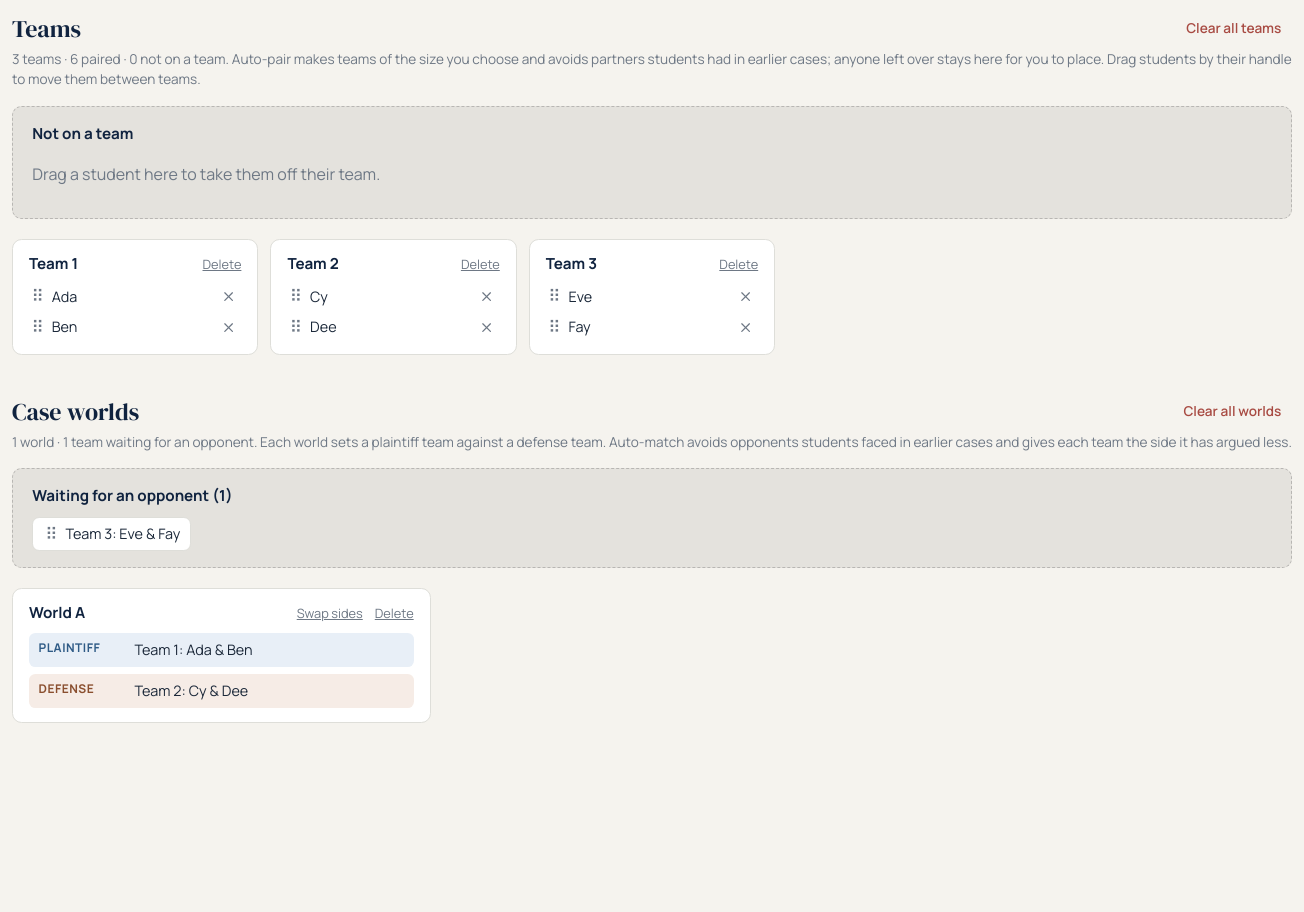
Test: case worlds › swaps sides and deletes a world
Expected: the list item "World A" is shown, [12,588,431,723]
Step 1. Click the button "Swap sides" → [330, 614], box [297,604,363,623]
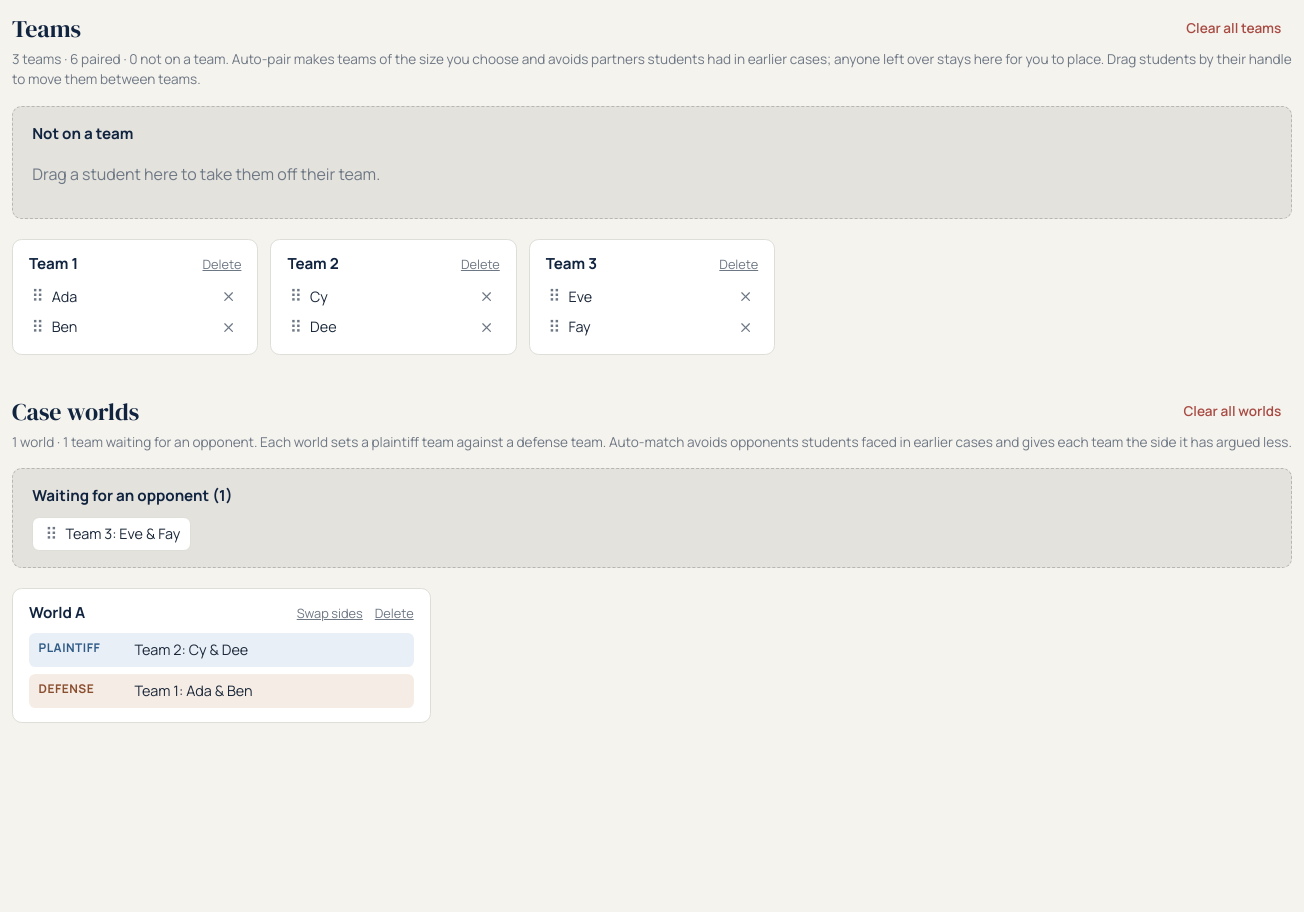
Step 2. Click the button "Delete" below "Team 3: Eve & Fay" → [394, 614], box [375,604,414,623]
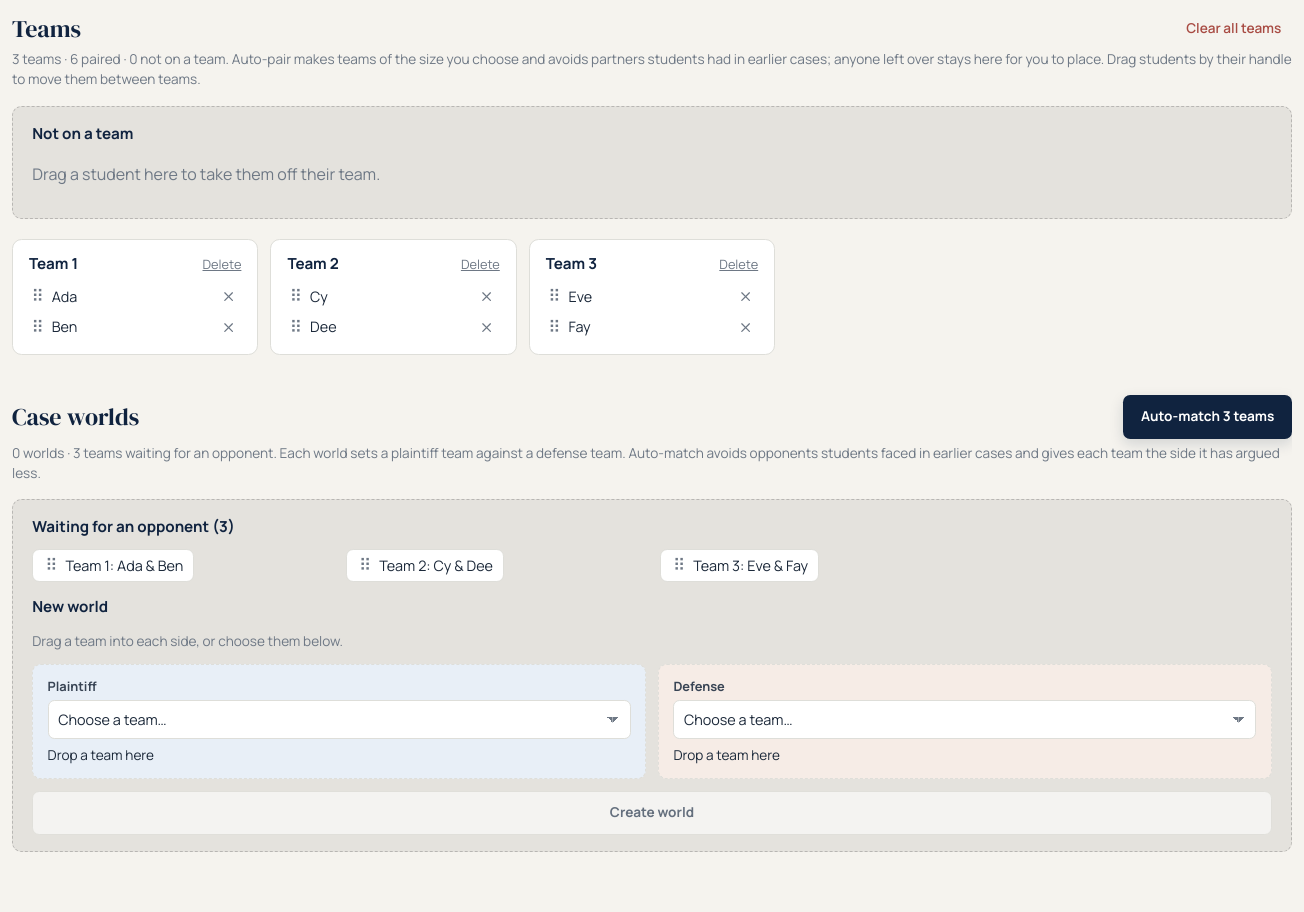
Result: the heading "World A" is gone
